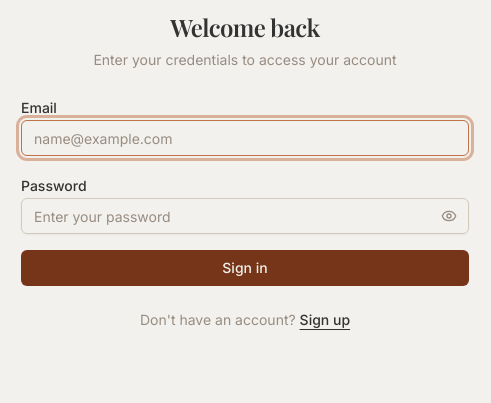
Test: LoginForm › validation › validates email is required
This screenshot has width=491, height=403.
What coordinates should you click on to do the following:
click the button "Sign in"
I would click on:
 (245, 268)
Its box is 21,250 -> 469,286.
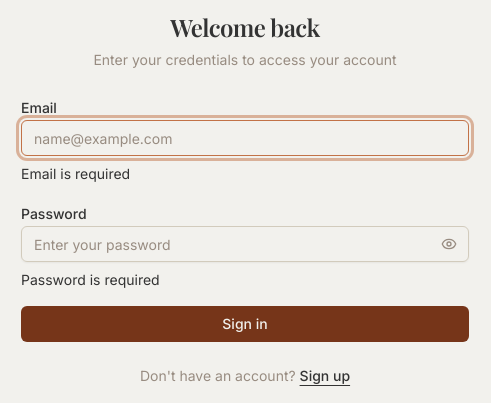
Expected: the text "Email is required" is shown, 21,165 -> 130,182
